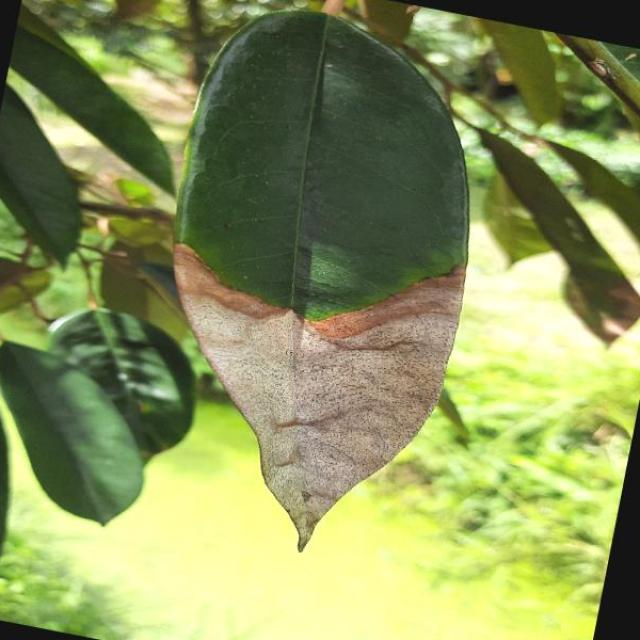Leaf Blight: (102, 0, 522, 583)
